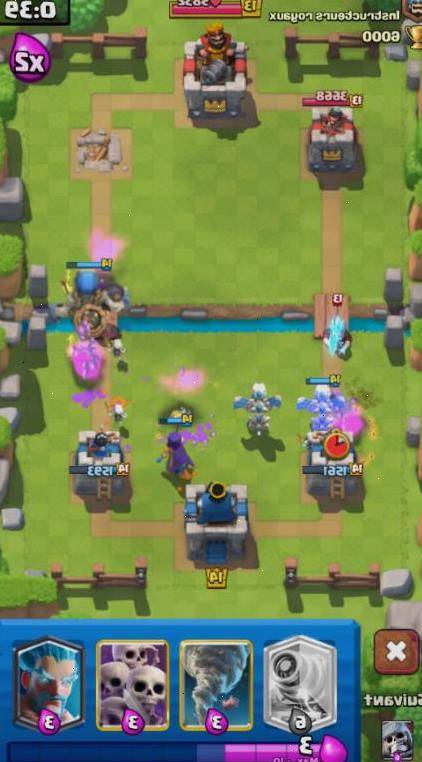enemy_ice_wizard: (318, 291, 359, 360)
player_giant_skeleton: (59, 260, 125, 340)
player_skeleton_dragon: (295, 373, 351, 436), (231, 377, 285, 439)
player_skeletons: (104, 334, 133, 364), (106, 397, 133, 425)
player_witch: (154, 410, 200, 485)
